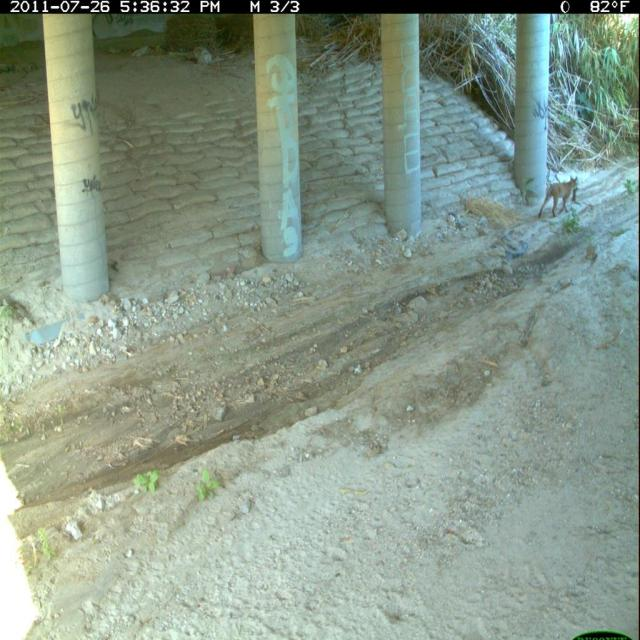bobcat: (534, 175, 583, 226)
rabbit: (572, 183, 584, 211)
